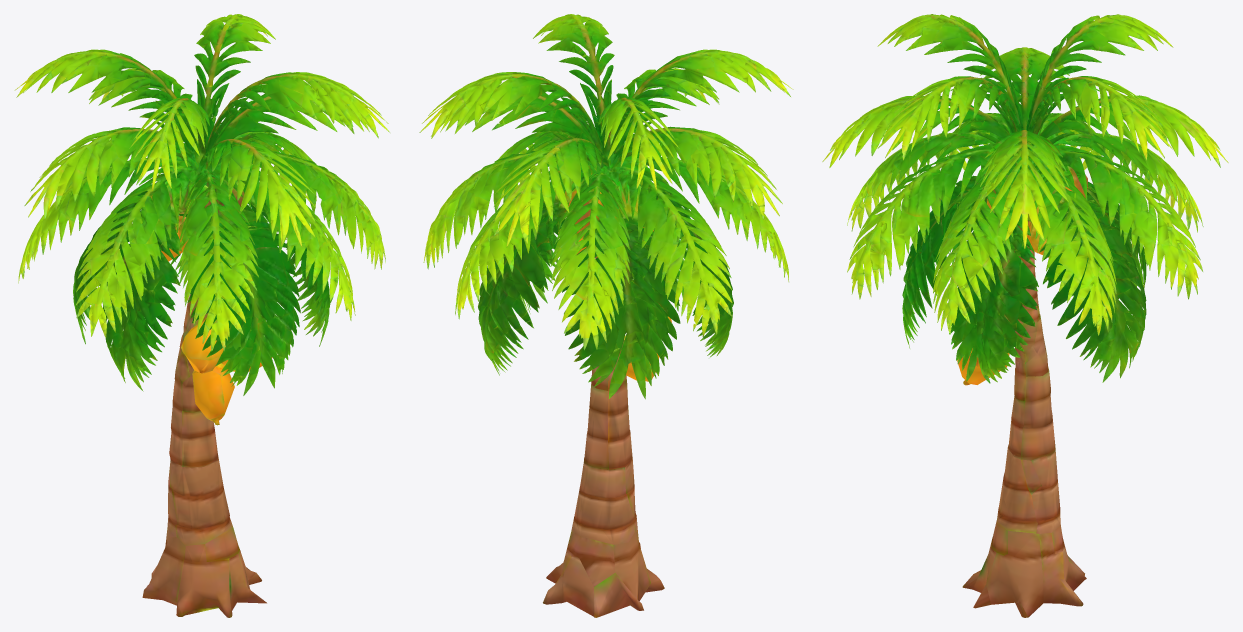
Rendered from palm_beach_tilted.glb.
The picture shows the model from 3 angles, left to right: view 1: azimuth 30°, elevation 25°; view 2: azimuth 150°, elevation 25°; view 3: azimuth 270°, elevation 25°; orthographic projection.
Size of the model in its own units: 1.3 by 1.9 by 1.3.
Materials: 1 (1 with a texture image).
